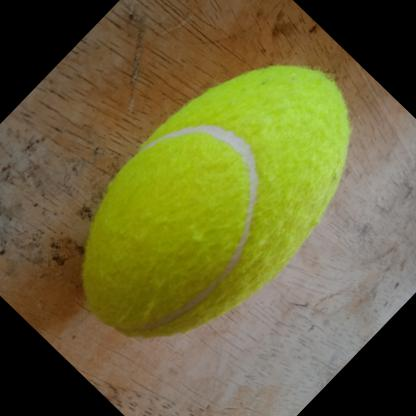Tennis: (27, 6, 411, 394)
